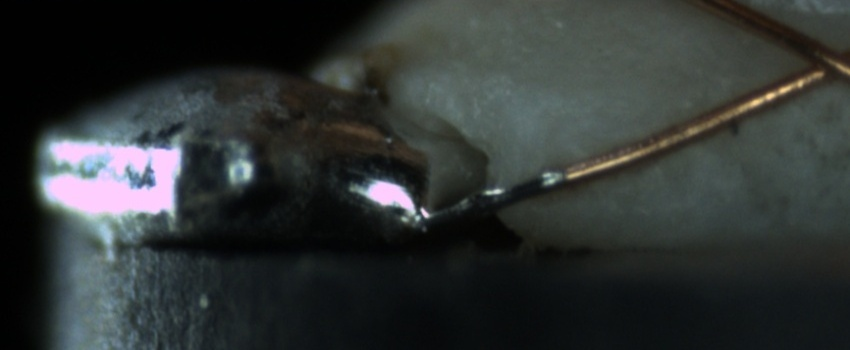CL: (773, 24, 848, 95)
TB: (463, 180, 511, 216)
TS: (409, 168, 561, 228)
TTCW: (391, 148, 609, 235)
